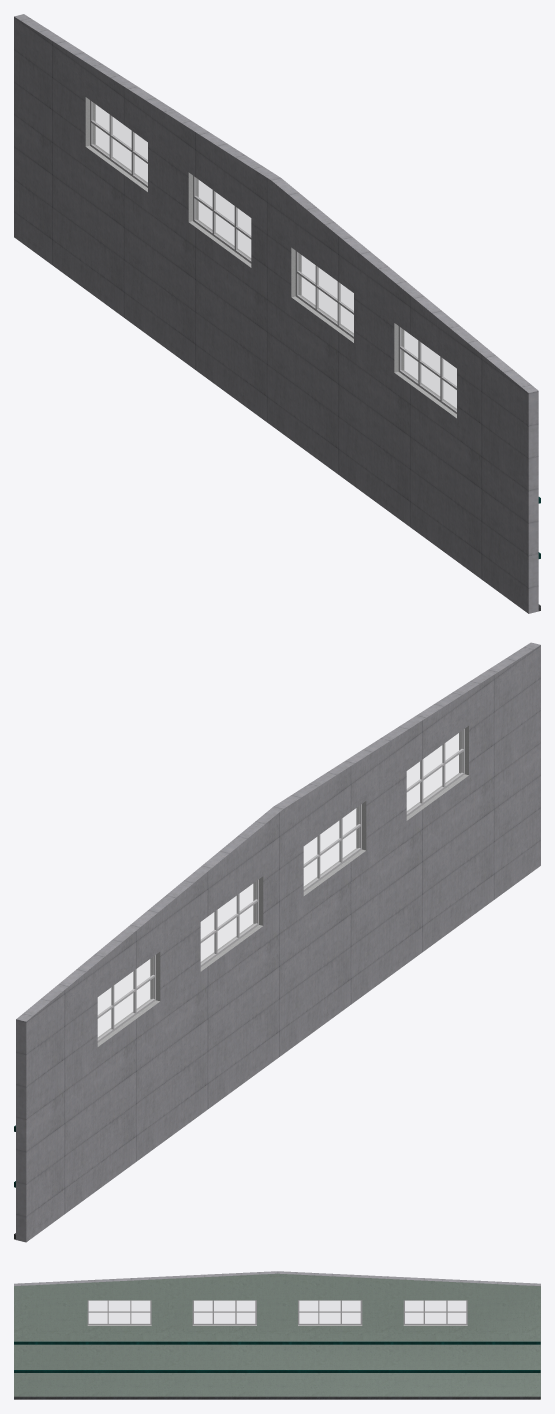
File: WareFront_Walls_Wind.glb
3 renders of one model, top to bottom at view 1: azimuth 30°, elevation 25°; view 2: azimuth 150°, elevation 25°; view 3: azimuth 270°, elevation 25°, orthographic. The views are drawn at different scales.
Parts seen in each view (by area): view 1: WareFront_Walls_Wind, WareFront_Windglasse, WareFront_Wind; view 2: WareFront_Walls_Wind, WareFront_Windglasse, WareFront_Wind; view 3: WareFront_Walls_Wind, WareFront_Windglasse, WareFront_Metal, WareFront_Wind.
Boxes of the visible parts, x1,y1,x2,y2 form: WareFront_Walls_Wind: (14, 14, 540, 613); WareFront_Windglasse: (92, 102, 456, 410); WareFront_Wind: (90, 100, 456, 413); WareFront_Walls_Wind: (14, 642, 540, 1242); WareFront_Windglasse: (98, 730, 462, 1039); WareFront_Wind: (97, 729, 464, 1042); WareFront_Walls_Wind: (14, 1271, 540, 1399); WareFront_Windglasse: (89, 1301, 465, 1323); WareFront_Metal: (14, 1341, 540, 1372); WareFront_Wind: (87, 1300, 467, 1324).
Bounding box in the file's own units: 0.5164 × 9.72 × 37.
Materials: 7 (6 with a texture image).
